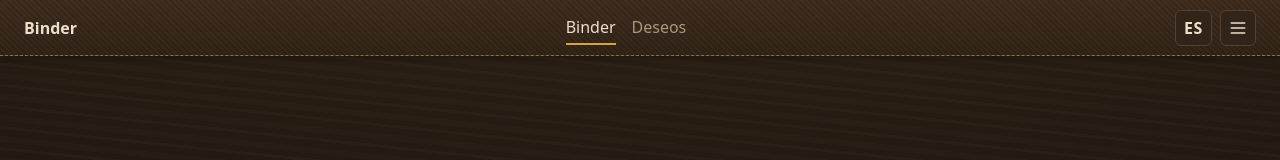
AppLayout locale switch › shows the active locale and cycles to the next one
This screenshot has width=1280, height=160.
What coordinates should you click on to do the following:
click the button with aria-label "Cambiar idioma a English"
I would click on:
 (1193, 28)
Its box is left=1175, top=10, right=1212, bottom=46.
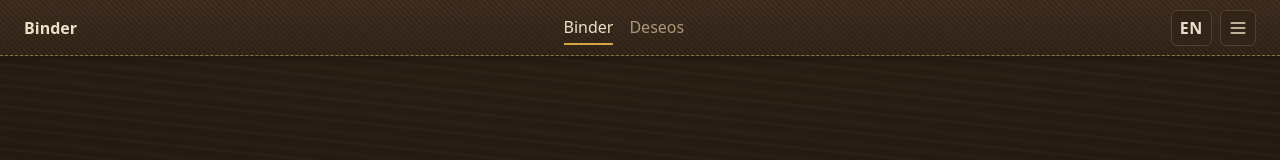
Expected: the button with aria-label "Cambiar idioma a Español" reads "EN", left=1171, top=10, right=1212, bottom=46
